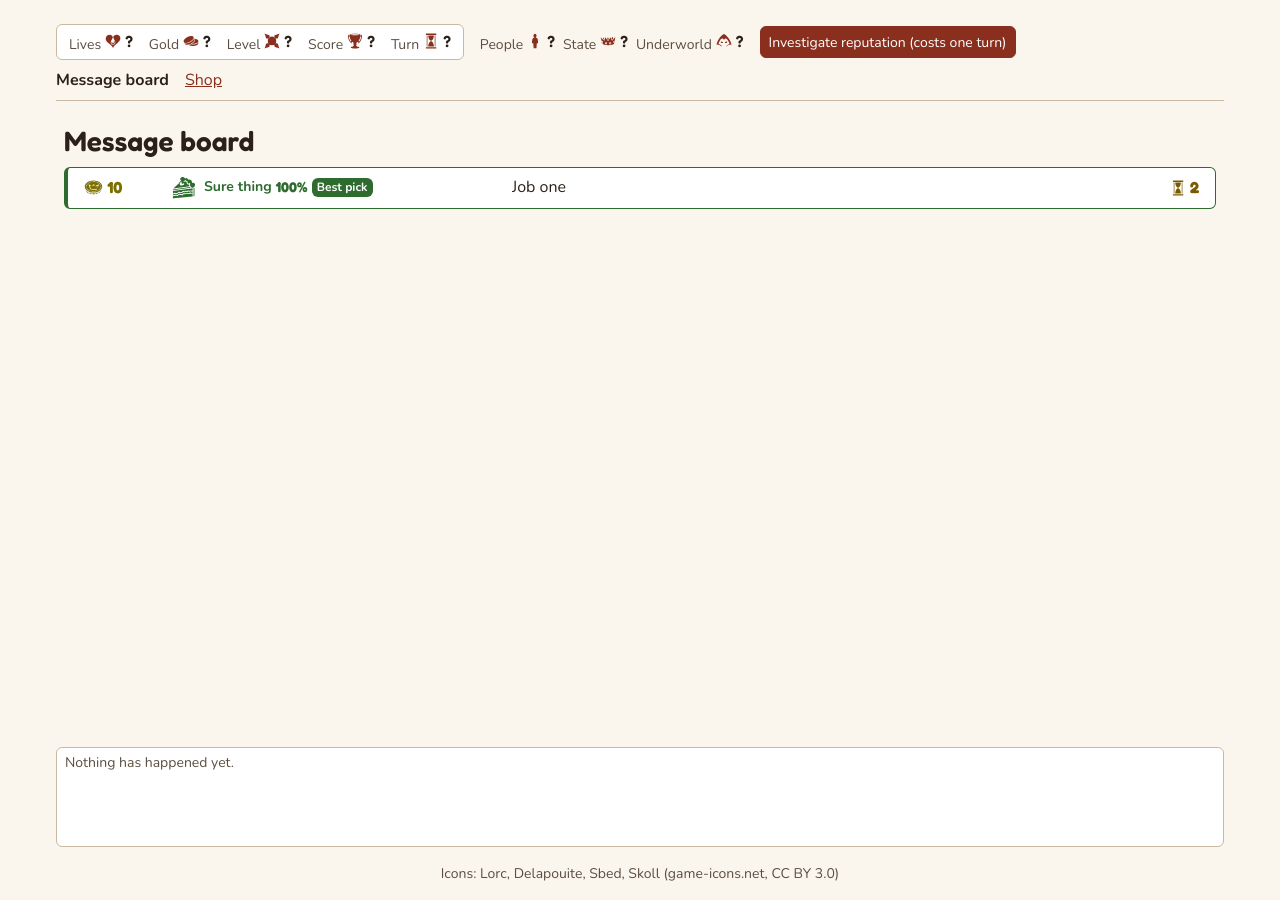
it: game flow › routed panels and layout shell (AD-10, AD-14) › a solve appends a log entry carrying the API message
Click the button "10 Sure thing 100% Best pick Job one 2": (105, 197) left=64, top=167, right=1216, bottom=209
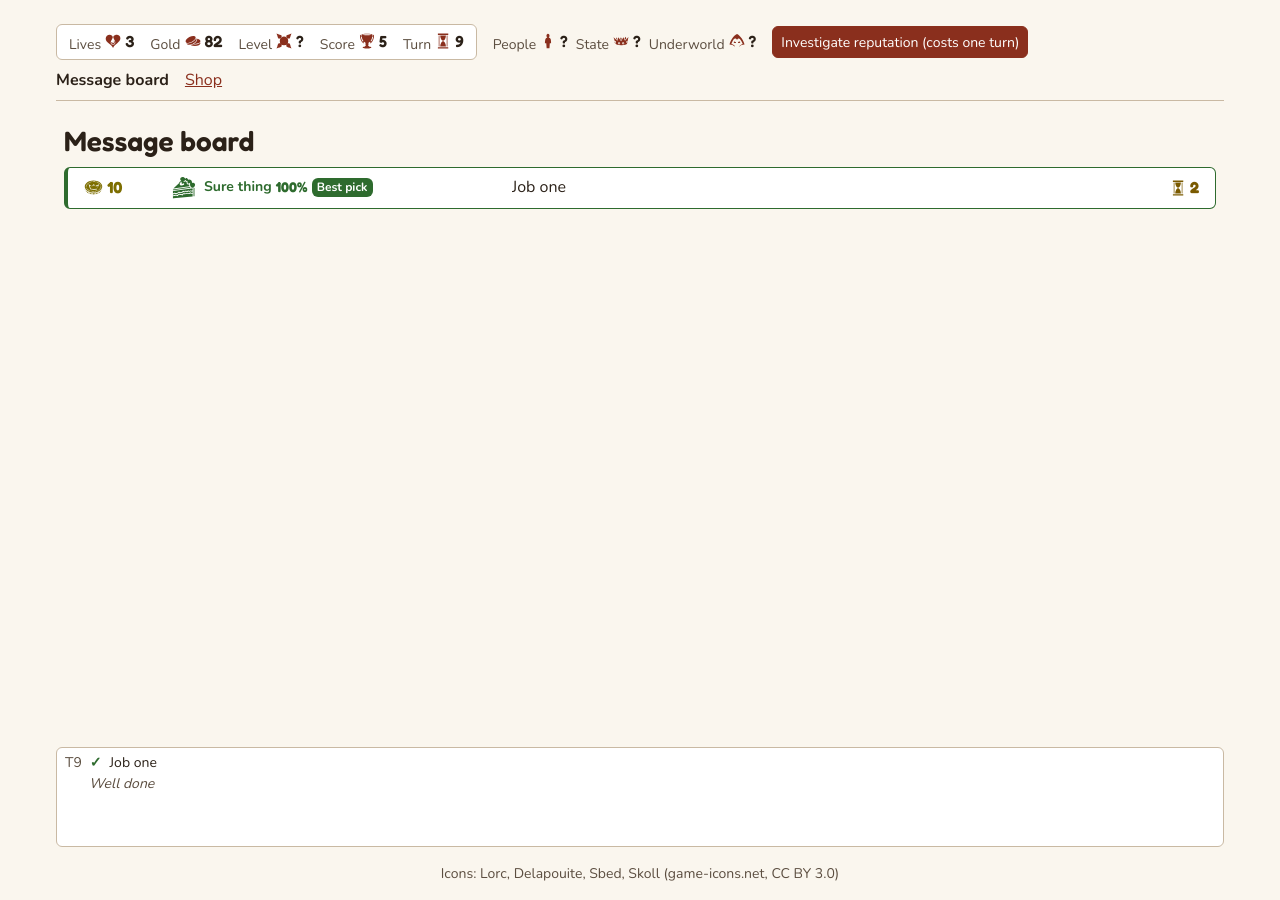
Check: the list item "T9 ✓ Job one Well done" is shown, box left=65, top=753, right=157, bottom=793
